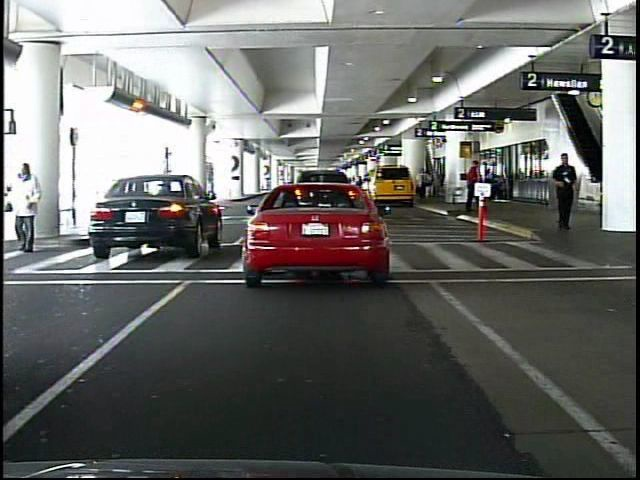person: (15, 160, 46, 256), (551, 152, 577, 233), (463, 162, 477, 216), (416, 166, 430, 202)
